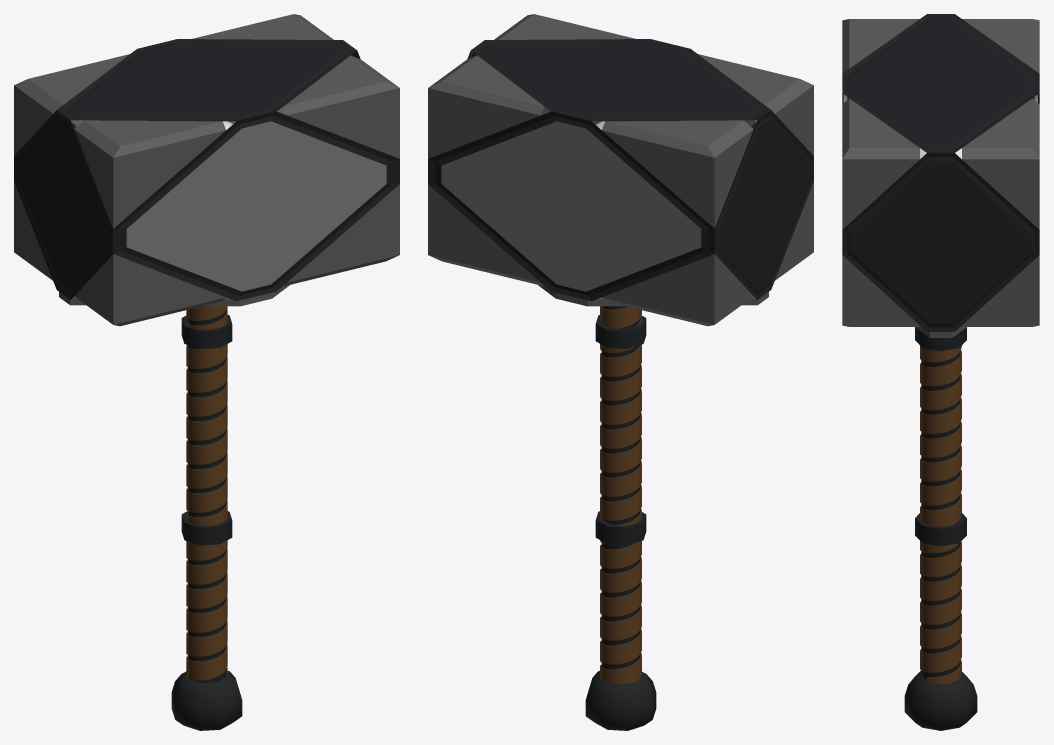
File: Hammer.fbx
The picture shows the model from 3 angles, left to right: view 1: azimuth 30°, elevation 25°; view 2: azimuth 150°, elevation 25°; view 3: azimuth 270°, elevation 25°; orthographic projection.
Visible parts, largest first — view 1: Cube, HammerSides, Cube.005, Cube.004, Cylinder.001, Cube.007, Cylinder, Cube.011; view 2: Cube, HammerSides, Cube.005, Cube.004, Cylinder.001, Cube.007, Cylinder, Cube.011; view 3: Cube, Cube.007, Cube.005, Cylinder.001, Cube.004, Cylinder.
Part boxes in pixels (box(x1,y1,x2,y2)): Cube: box(14, 14, 399, 326); HammerSides: box(71, 106, 386, 291); Cube.005: box(72, 43, 341, 116); Cube.004: box(14, 39, 399, 301); Cylinder.001: box(186, 306, 227, 680); Cube.007: box(18, 54, 354, 290); Cylinder: box(171, 310, 242, 730); Cube.011: box(59, 284, 289, 306); Cube: box(428, 14, 813, 326); HammerSides: box(441, 106, 756, 291); Cube.005: box(486, 43, 755, 116); Cube.004: box(428, 39, 813, 301); Cylinder.001: box(600, 306, 641, 684); Cube.007: box(473, 54, 809, 290); Cylinder: box(585, 306, 656, 730); Cube.011: box(538, 284, 768, 306); Cube: box(842, 19, 1039, 326); Cube.007: box(851, 161, 1030, 323); Cube.005: box(851, 20, 1030, 146); Cylinder.001: box(920, 346, 961, 683); Cube.004: box(842, 14, 1039, 331); Cylinder: box(904, 327, 977, 730).
Size of the model in its own units: 50 by 108 by 30.
